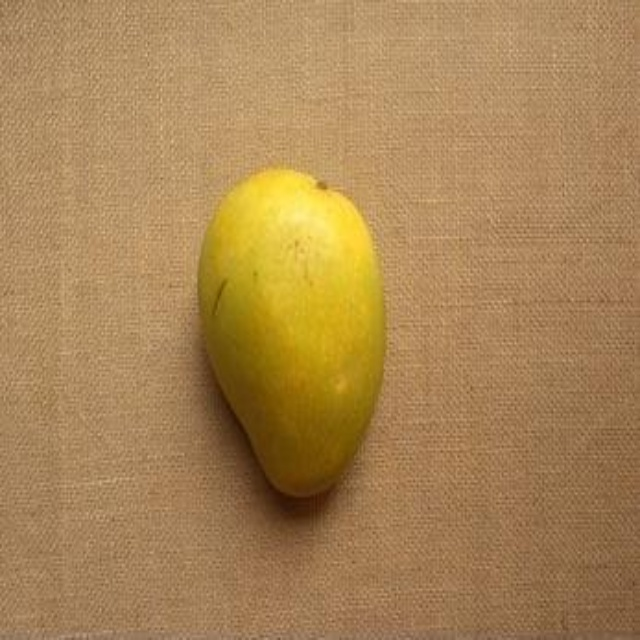mango: (194, 167, 389, 509)
